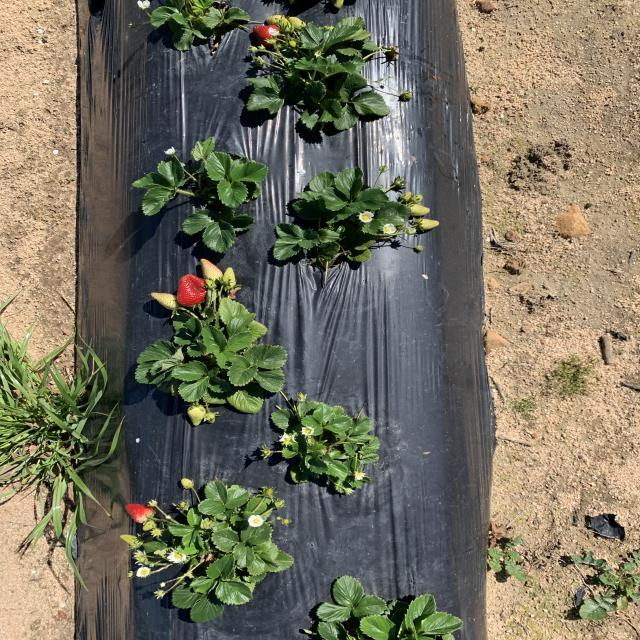unripe: (177, 274, 209, 306), (252, 22, 282, 46), (124, 503, 156, 522)
